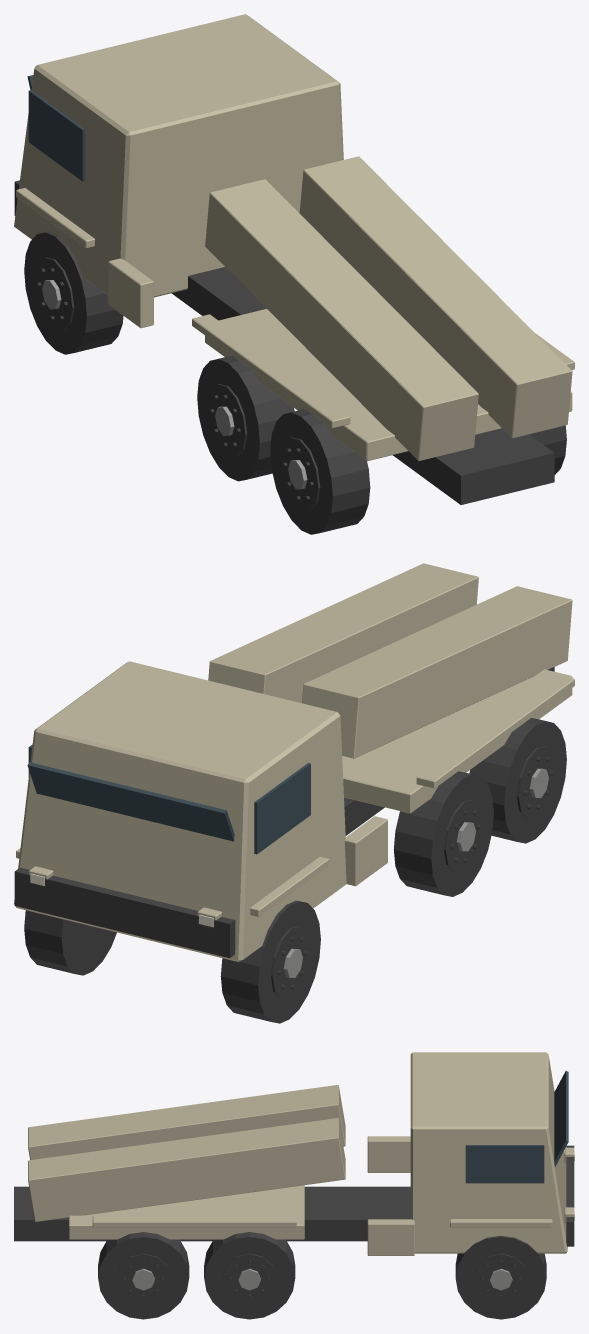
The model's file is usa_cst_nsm.glb.
3 renders of one model, top to bottom at view 1: azimuth 30°, elevation 25°; view 2: azimuth 150°, elevation 25°; view 3: azimuth 270°, elevation 25°, orthographic. The views are drawn at different scales.
Visible parts, largest first — view 1: body, barrel, wheel_4, wheel_2, turret, wheel_0, wheel_5; view 2: body, barrel, turret, wheel_2, wheel_0, wheel_4, wheel_1; view 3: body, barrel, wheel_5, wheel_3, turret, wheel_1.
Boxes of the visible parts, box(x1,y1,x2,y2) form: body: box(14, 14, 574, 504); barrel: box(205, 156, 572, 460); wheel_4: box(270, 409, 370, 534); wheel_2: box(197, 355, 294, 481); turret: box(205, 309, 572, 461); wheel_0: box(24, 231, 123, 354); wheel_5: box(529, 425, 566, 474); body: box(14, 661, 574, 962); barrel: box(208, 563, 572, 758); turret: box(342, 669, 572, 813); wheel_2: box(393, 771, 493, 896); wheel_0: box(220, 900, 320, 1023); wheel_4: box(469, 718, 566, 843); wheel_1: box(24, 910, 116, 975); body: box(14, 1052, 574, 1255); barrel: box(28, 1085, 345, 1221); wheel_5: box(98, 1232, 189, 1319); wheel_3: box(204, 1232, 295, 1319); turret: box(69, 1185, 304, 1239); wheel_1: box(455, 1235, 546, 1319).
Bounding box in the file's own units: 2.65 × 2.65 × 7.14.
